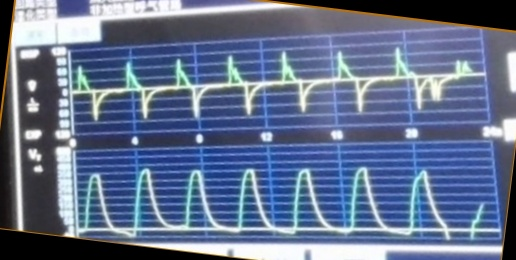Accumulation Flow: (74, 47, 478, 123)
Volume: (78, 163, 489, 241)
